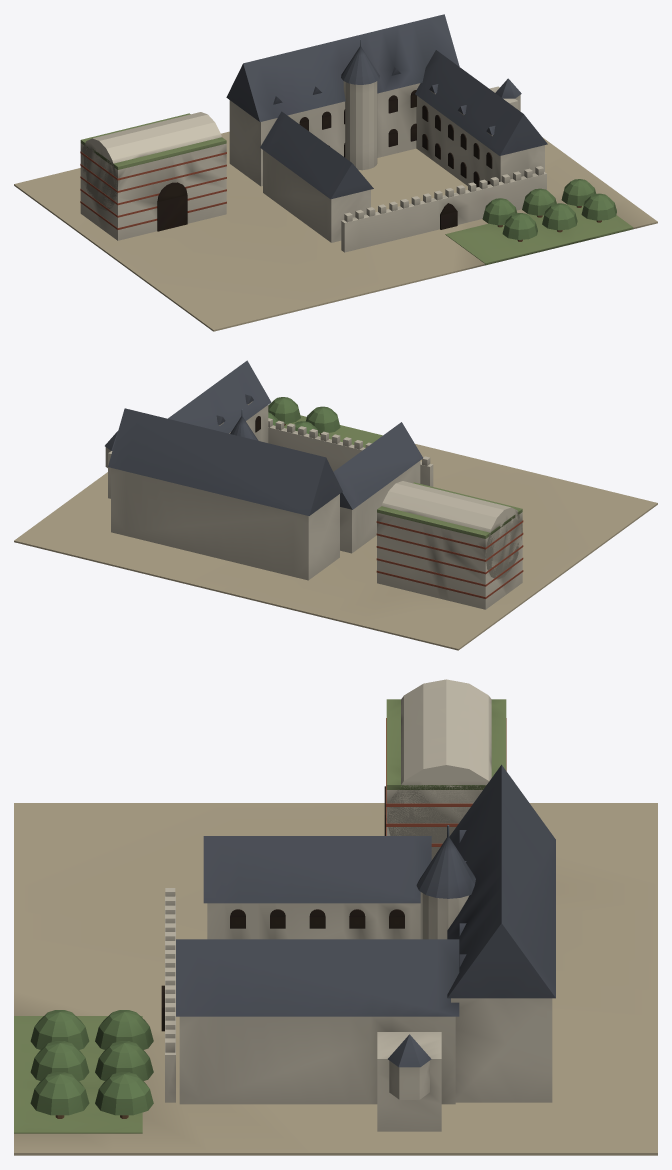
File: hotel-de-cluny.glb
3 views of the same model, one above another, from view 1: azimuth 30°, elevation 25°; view 2: azimuth 150°, elevation 25°; view 3: azimuth 270°, elevation 25° (orthographic). The views are drawn at different scales.
Visible parts, largest first — view 1: p0_frigidarium, p1_hôtel, p2_garden; view 2: p0_frigidarium, p1_hôtel, p2_garden; view 3: p0_frigidarium, p1_hôtel, p2_garden.
Part boxes in pixels (<box>): p0_frigidarium: <box>14,112,657,331</box>; p1_hôtel: <box>226,14,547,252</box>; p2_garden: <box>445,179,633,265</box>; p0_frigidarium: <box>14,444,657,650</box>; p1_hôtel: <box>105,360,433,580</box>; p2_garden: <box>268,397,382,447</box>; p0_frigidarium: <box>14,679,657,1155</box>; p1_hôtel: <box>161,764,555,1131</box>; p2_garden: <box>14,1010,153,1133</box>.
Bounding box in the file's own units: 90 × 24.2 × 70.
